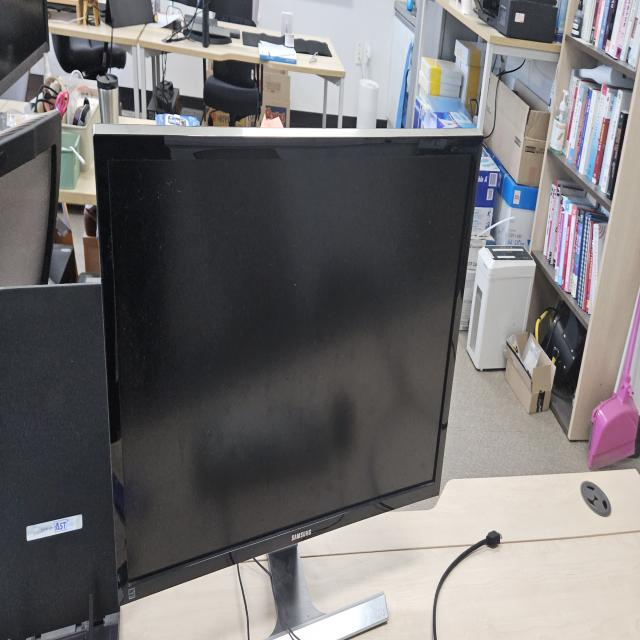Monitor: (90, 116, 486, 624)
